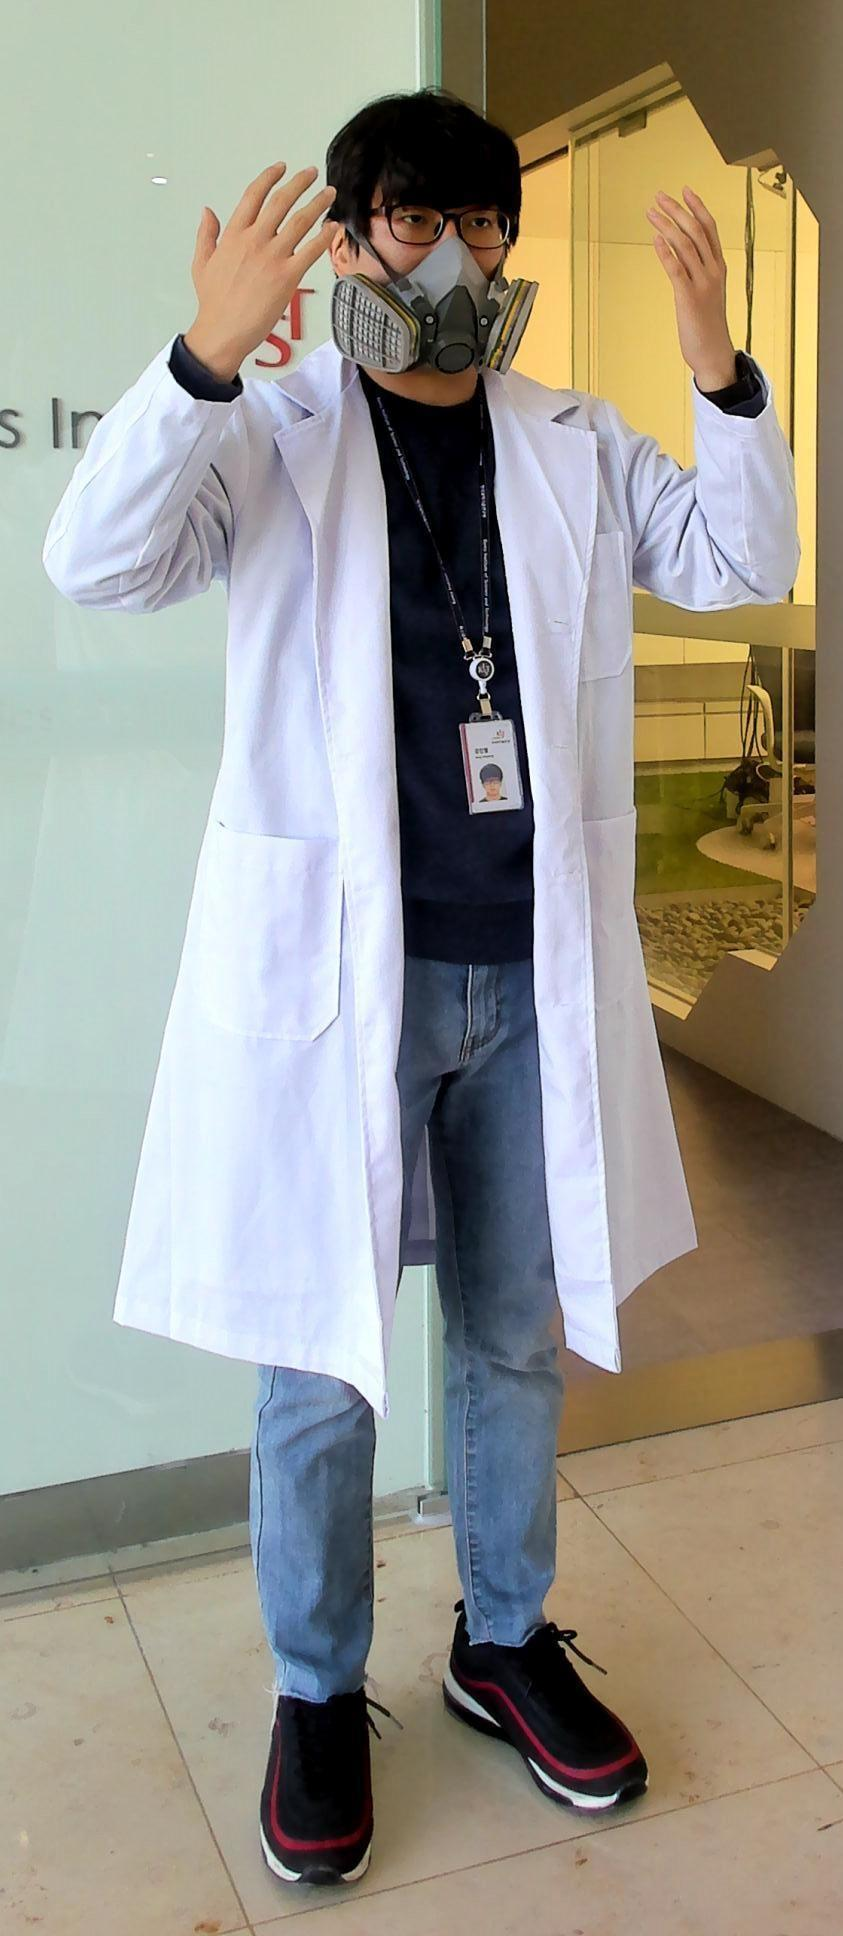lab_coat: (147, 417, 674, 1348)
